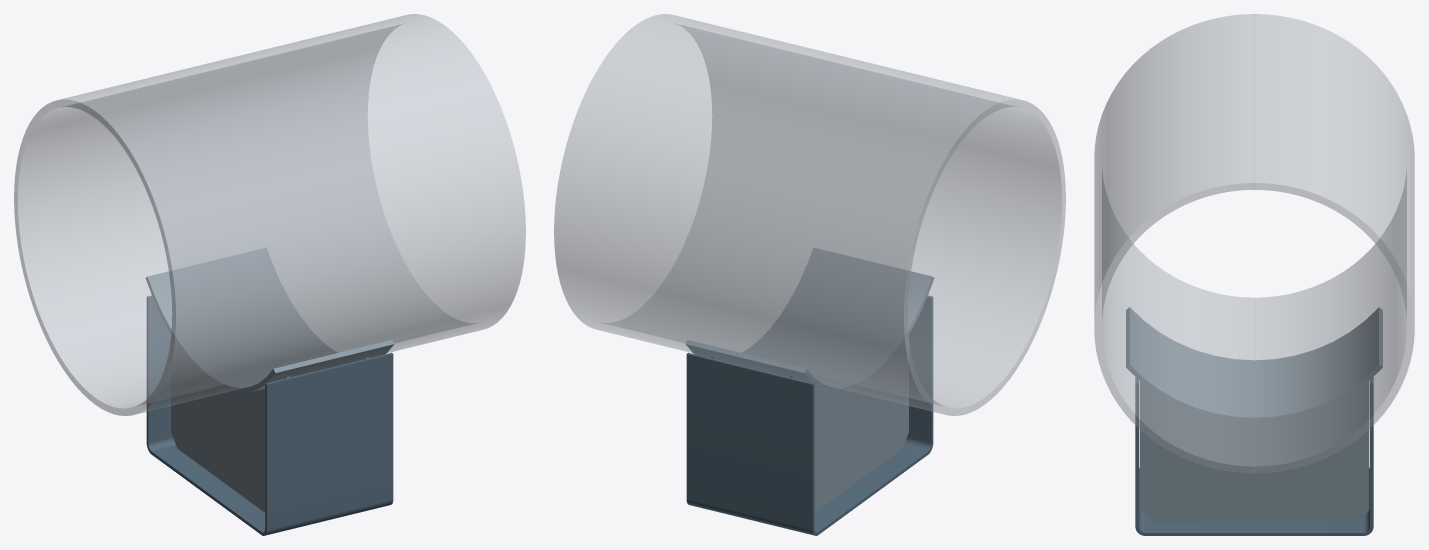
Rendered from TS-624.000-013-opora-dn377-H150-L170.glb.
The picture shows the model from 3 angles, left to right: view 1: azimuth 30°, elevation 25°; view 2: azimuth 150°, elevation 25°; view 3: azimuth 270°, elevation 25°; orthographic projection.
Parts seen in each view (by area): view 1: truba, skoba, podushka_0, rebro3_0; view 2: truba, skoba, podushka_0, rebro3_0; view 3: truba, rebro3_1, podushka_0, skoba.
Boxes of the visible parts, bbox=[...] form: truba: bbox=[14, 14, 525, 415]; skoba: bbox=[146, 295, 393, 535]; podushka_0: bbox=[145, 248, 394, 392]; rebro3_0: bbox=[171, 335, 289, 512]; truba: bbox=[554, 14, 1065, 415]; skoba: bbox=[686, 295, 933, 535]; podushka_0: bbox=[685, 248, 934, 392]; rebro3_0: bbox=[790, 335, 908, 512]; truba: bbox=[1094, 14, 1414, 473]; rebro3_1: bbox=[1139, 381, 1369, 521]; podushka_0: bbox=[1126, 307, 1382, 422]; skoba: bbox=[1135, 377, 1373, 535].
Size of the model in its own units: 470 by 528 by 377.
